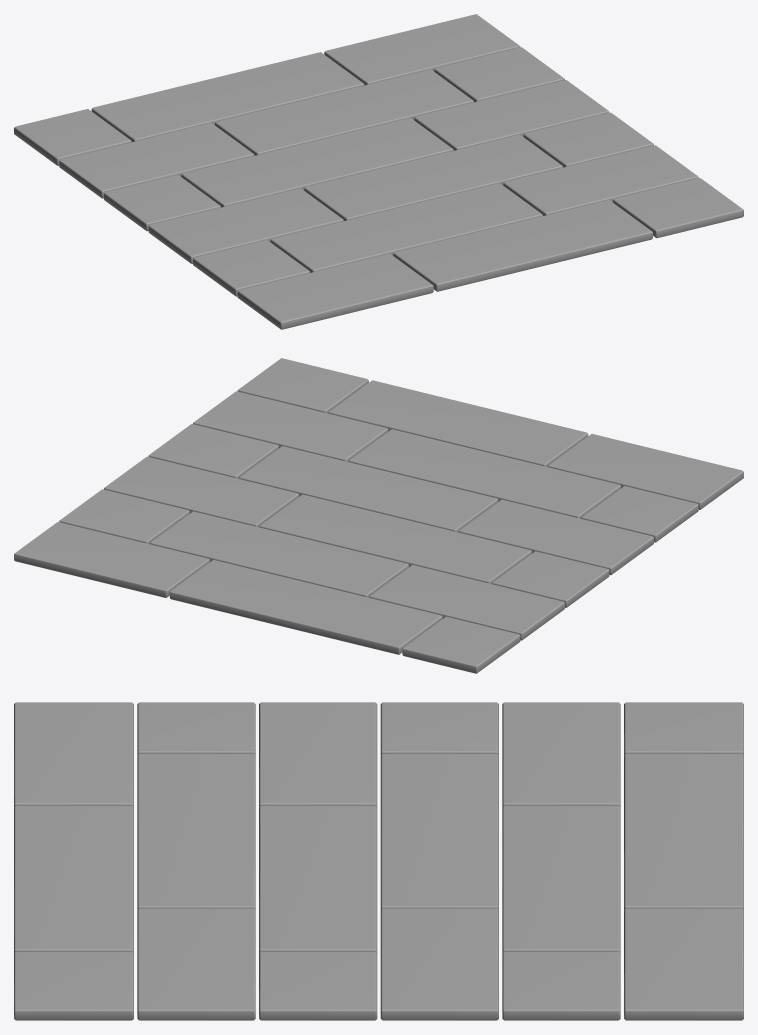
File: Floor_6.glb
3 renders of one model, top to bottom at view 1: azimuth 30°, elevation 25°; view 2: azimuth 150°, elevation 25°; view 3: azimuth 270°, elevation 25°, orthographic. The views are drawn at different scales.
Visible parts, largest first — view 1: Floor_6; view 2: Floor_6; view 3: Floor_6.
Boxes of the visible parts, <box> form: Floor_6: <box>14,14,743,329</box>; Floor_6: <box>14,358,743,673</box>; Floor_6: <box>14,702,743,1020</box>.
Bounding box in the file's own units: 4.6 × 0.08 × 4.6.
Materials: 1 (1 with a texture image).
